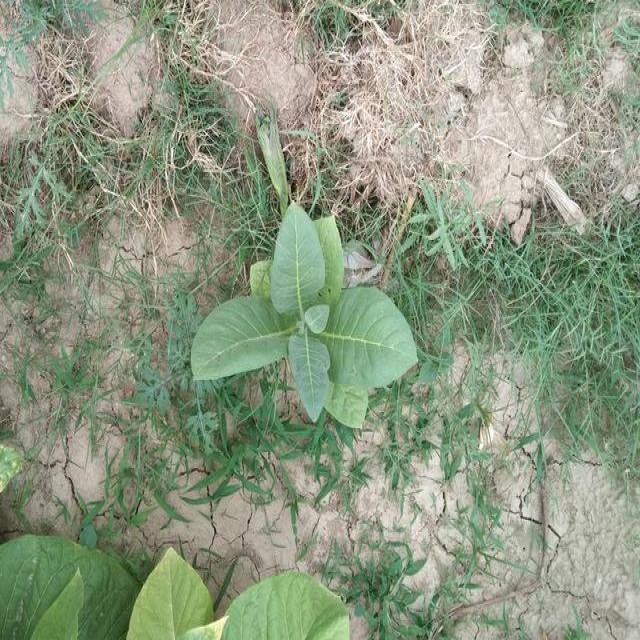crop: (181, 184, 424, 443)
